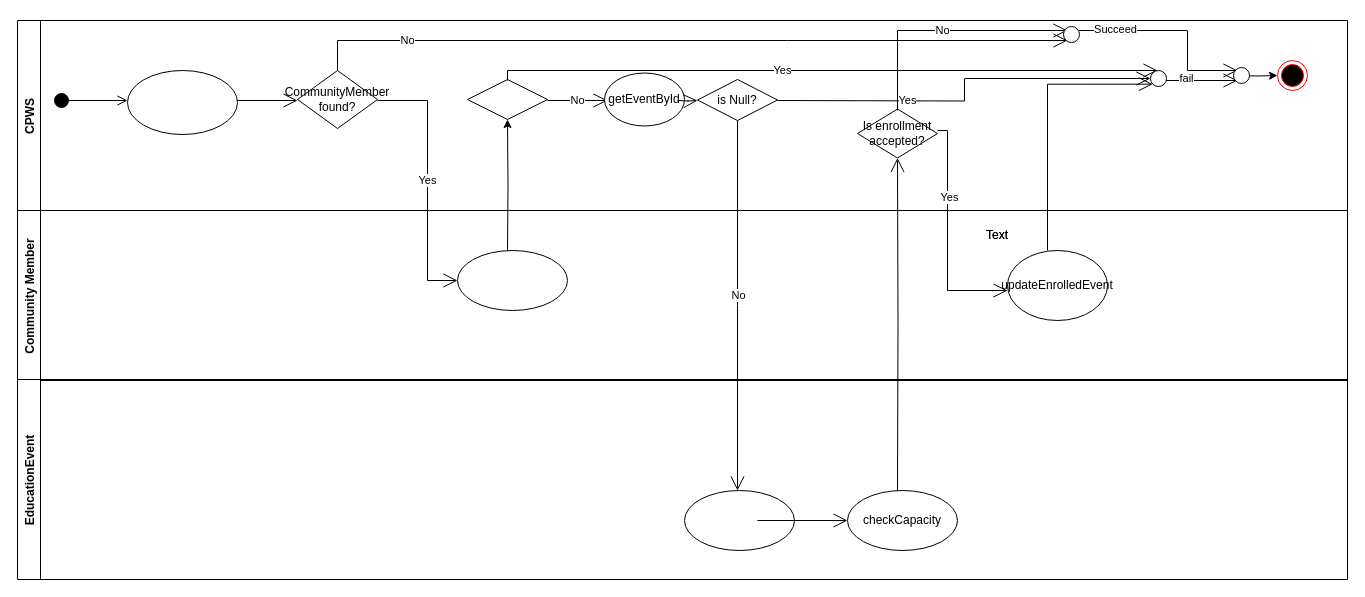
Some shapes in this 1365 by 597 pixel diagram are drawn without their labels. Each missing label, with the centre of its shape:
checkEnrolledEvent: the point at 512,280
enroll: the point at 739,520
enrolled?: the point at 507,99
getCommunityMember ById(userId): the point at 182,102
